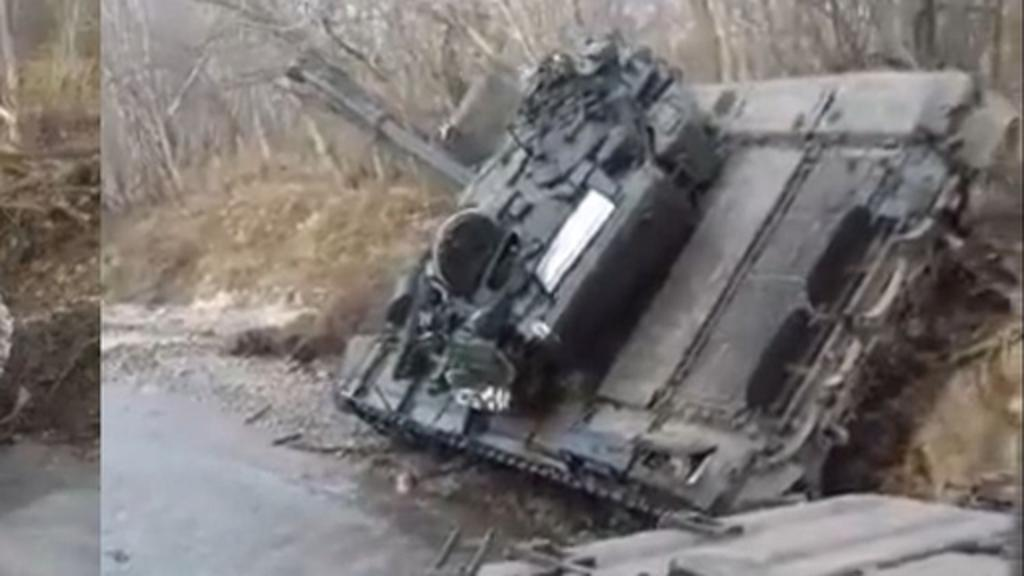TANK: (270, 32, 1002, 554)
